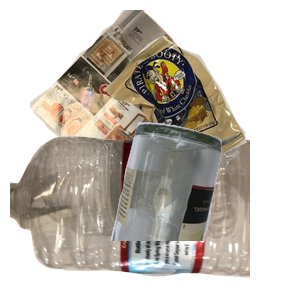glass: (109, 120, 300, 300)
paper: (27, 10, 230, 190)
plastic: (10, 134, 250, 300)
trash: (101, 33, 300, 206)
